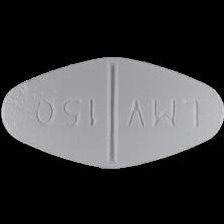60429-353: (0, 0, 224, 224)
